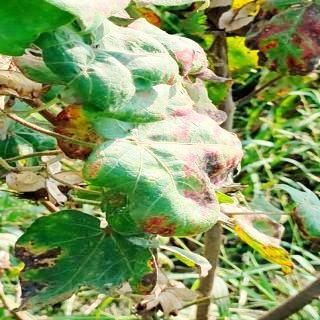blight: (29, 84, 256, 256), (234, 1, 320, 83)
